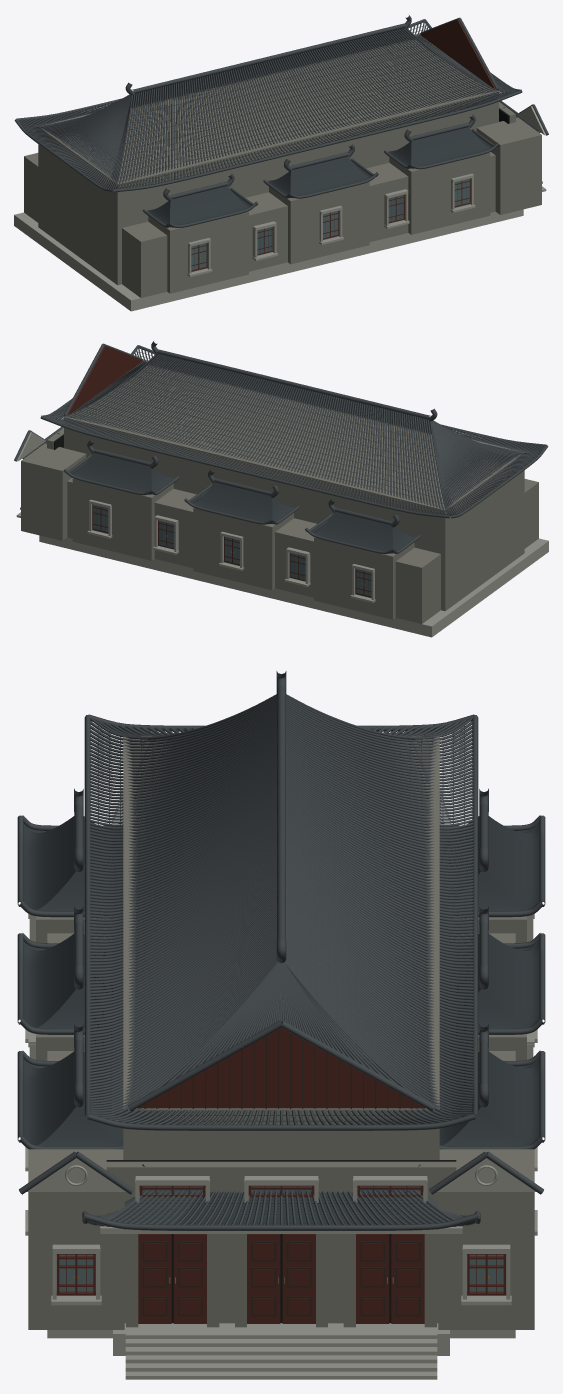
Rendered from auditorium.glb.
3 views of the same model, one above another, from view 1: azimuth 30°, elevation 25°; view 2: azimuth 150°, elevation 25°; view 3: azimuth 270°, elevation 25° (orthographic). The views are drawn at different scales.
Parts seen in each view (by area): view 1: historic-brick, roof-ribs, roof, limestone, redwood, window-glass; view 2: historic-brick, roof-ribs, roof, limestone, redwood, window-glass; view 3: roof-ribs, historic-brick, roof, redwood, limestone, window-wood, window-glass-warm, recess.
Boxes of the visible parts, x1,y1,x2,y2 form: historic-brick: (24, 33, 541, 297); roof-ribs: (14, 15, 548, 227); roof: (51, 26, 536, 227); limestone: (14, 102, 546, 311); redwood: (191, 19, 495, 271); window-glass: (191, 178, 469, 270); historic-brick: (21, 359, 538, 623); roof-ribs: (14, 341, 548, 553); roof: (26, 352, 525, 553); limestone: (16, 428, 548, 637); redwood: (67, 345, 371, 597); window-glass: (93, 504, 371, 596); roof-ribs: (17, 671, 545, 1230); historic-brick: (28, 736, 534, 1329); roof: (20, 726, 542, 1226); redwood: (56, 1021, 506, 1323); limestone: (25, 914, 537, 1379); window-wood: (142, 1029, 420, 1316); window-glass-warm: (59, 1186, 503, 1291); recess: (106, 1160, 456, 1322).
Size of the model in its own units: 40.53 by 15 by 20.84.
